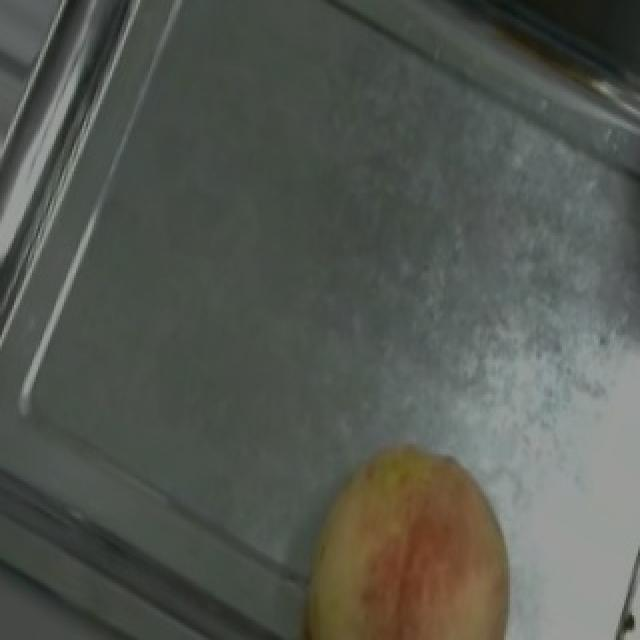Fruit: (262, 407, 554, 640)
